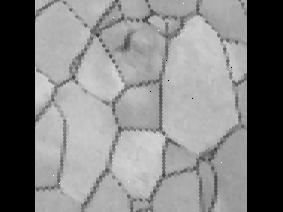good_void: (114, 28, 136, 54)
